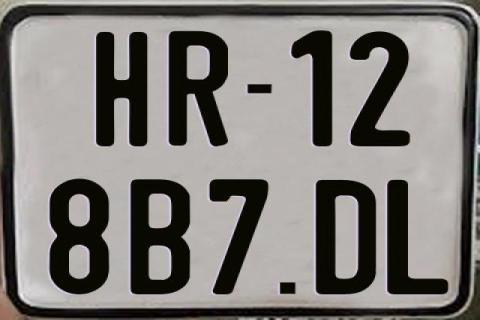0: (48, 176, 114, 294), (208, 177, 272, 295), (348, 29, 411, 145), (290, 30, 333, 148)
B: (129, 178, 193, 294)
D: (313, 178, 375, 294)
H: (94, 31, 149, 146)
L: (387, 180, 449, 298)
R: (166, 31, 229, 146)
